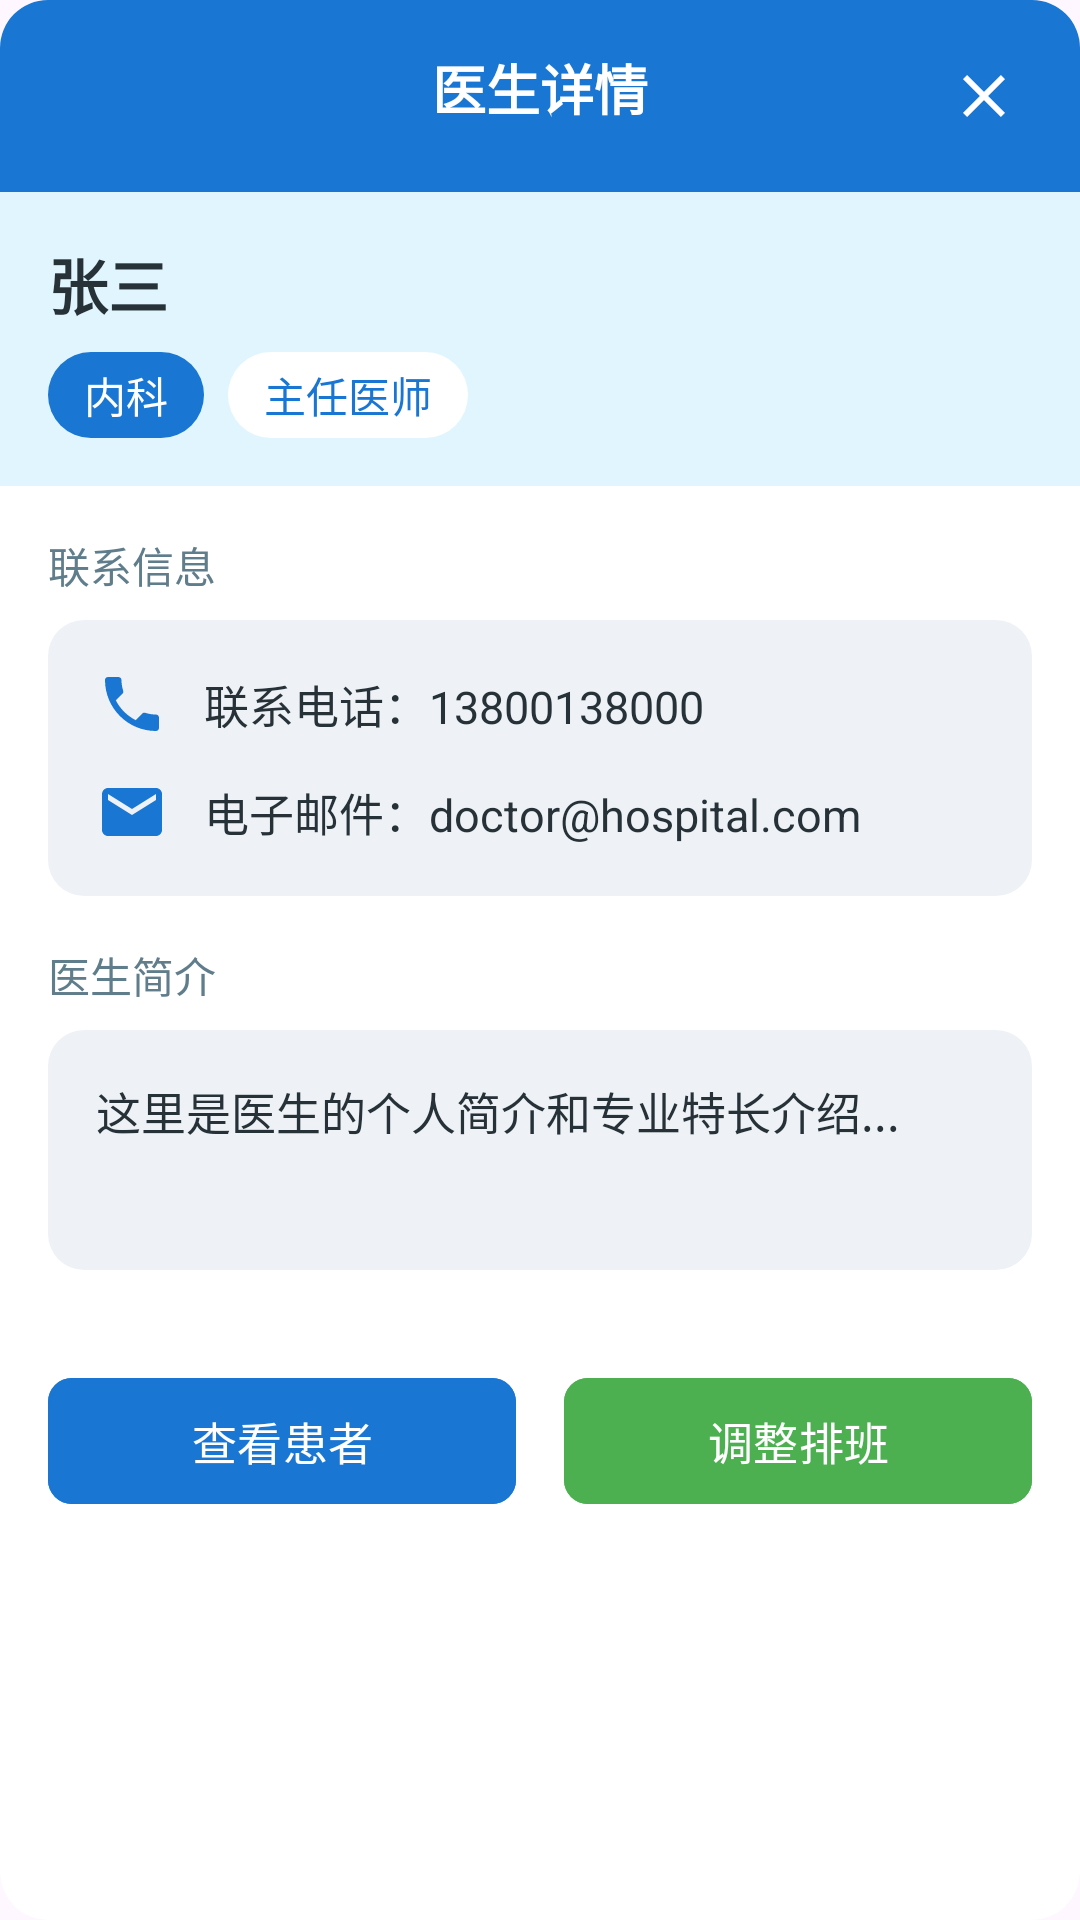

Icons on this 1080*1920 Android screen, each with its box as {"x1": x1, "y1": y1, "x2": x2, "y2": y2}:
关闭: {"x1": 963, "y1": 75, "x2": 1005, "y2": 117}
